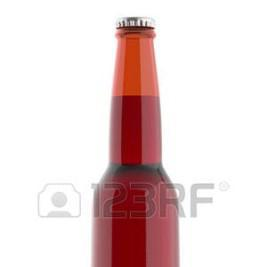beer: (90, 15, 182, 267)
